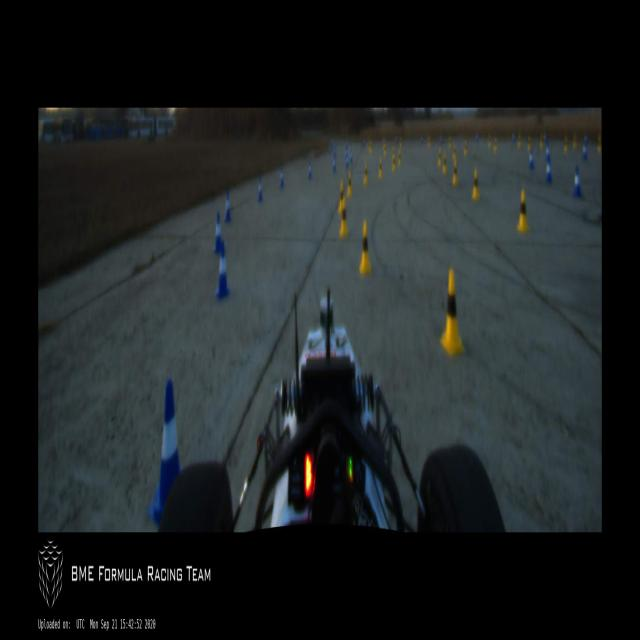blue_cone: (150, 381, 185, 522), (215, 243, 231, 299), (572, 164, 583, 198), (214, 213, 222, 253), (224, 190, 231, 222), (545, 155, 553, 183), (257, 177, 263, 201), (529, 149, 534, 171), (280, 168, 284, 189), (308, 162, 312, 180), (350, 149, 353, 165), (333, 157, 336, 172), (346, 154, 348, 169)
yellow_cone: (440, 268, 465, 354), (359, 222, 372, 272), (517, 190, 529, 232), (340, 198, 348, 237), (472, 168, 480, 201), (338, 183, 344, 212), (442, 152, 448, 174), (347, 172, 352, 196), (453, 162, 458, 184), (378, 158, 383, 178), (391, 154, 396, 172), (364, 163, 368, 185), (438, 148, 442, 167), (398, 149, 401, 166)
